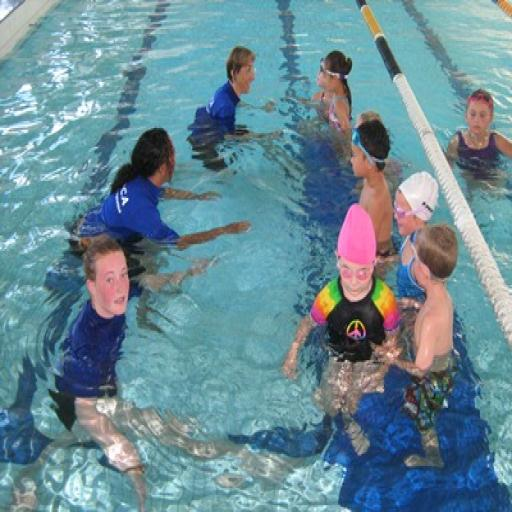swimming: (72, 125, 254, 256), (443, 86, 511, 194), (306, 46, 357, 142)
